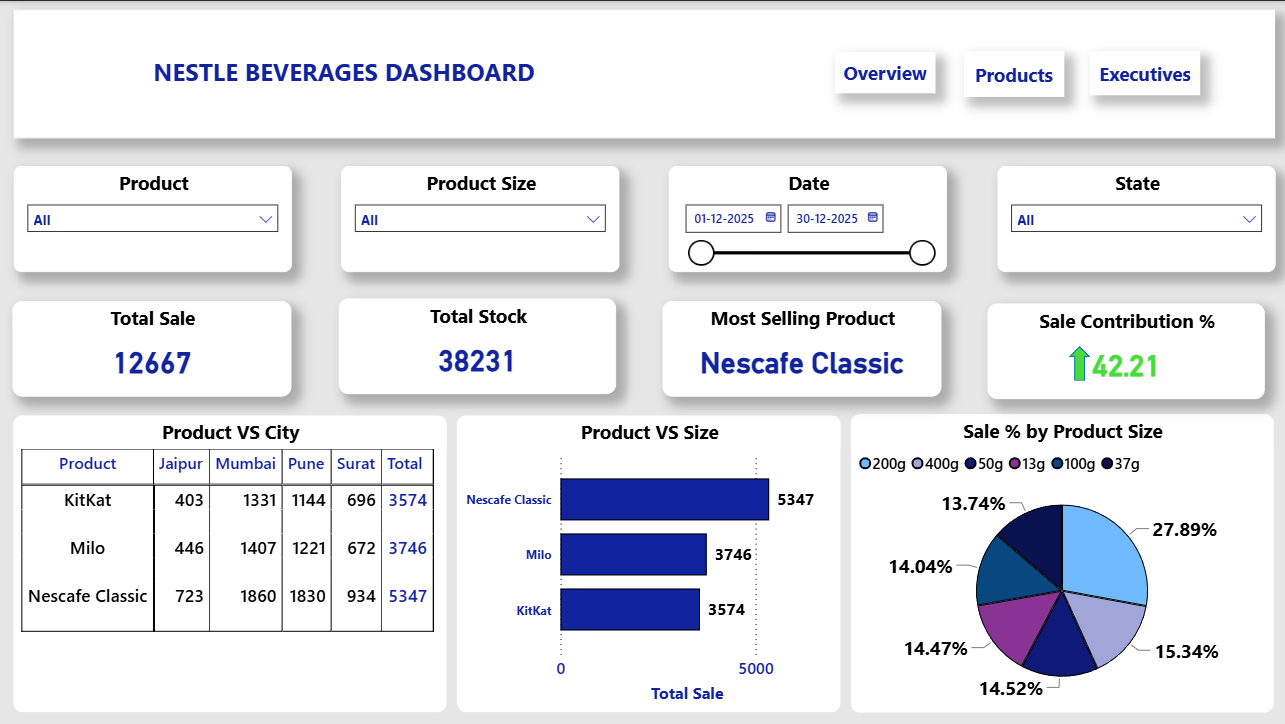

The dashboard page shown, as its layout file describes it:
{"tool":"powerbi","page":{"name":"Product Analysis","canvas":[1280,720],"ordinal":1},"visuals":[{"type":"shape","box":[13.7,8.2,1255.6,127.6],"z":0,"group":"g1"},{"type":"slicer","title":"Product","fields":{"Values":["West.Product"]},"box":[13.7,164.7,277.2,105.7],"z":0},{"type":"textbox","box":[147.2,47.7,417.2,46.7],"z":1000,"group":"g1"},{"type":"slicer","title":"Product Size ","fields":{"Values":["West.Product Size"]},"box":[339.9,164.7,277.2,105.7],"z":1000},{"type":"actionButton","box":[830.5,50.1,100.3,40.6],"z":2000,"group":"g1"},{"type":"slicer","title":"Date","fields":{"Values":["West.Date"]},"box":[666,164.7,277.2,105.7],"z":2000},{"type":"actionButton","box":[959.5,49,100.2,45.3],"z":3000,"group":"g1"},{"type":"slicer","title":"State","fields":{"Values":["West.State"]},"box":[992.1,164.7,277.2,105.7],"z":3000},{"type":"actionButton","box":[1084.4,49,109.8,43.9],"z":4000,"group":"g1"},{"type":"card","title":"Total Sale","fields":{"Values":["Measures (2).Total Sale"]},"box":[13,298,277.8,95.5],"z":4000},{"type":"card","title":"Total Stock","fields":{"Values":["Measures (2).Total Stock"]},"box":[336.6,296.6,276.3,95.5],"z":5000},{"type":"pivotTable","title":"Product VS City ","fields":{"Rows":["West.Product"],"Columns":["West.City"],"Values":["Measures (2).Total Sale"]},"box":[13,412.3,432.6,296.6],"z":6000},{"type":"barChart","title":"Product VS Size","fields":{"Category":["West.Product"],"Y":["Measures (2).Total Sale"]},"box":[454.3,412.3,383.4,296.6],"z":7000},{"type":"pieChart","fields":{"Y":["Measures (2).Sale %"],"Category":["West.Product Size"]},"box":[846.3,410.9,422.4,298],"z":8000},{"type":"group","id":"g1","title":"Group 1","box":[13.7,8.2,1255.6,127.6],"z":9000},{"type":"card","title":"Most Selling Product","fields":{"Values":["Min(West.Product)"]},"box":[658.7,298,277.8,95.5],"z":10000},{"type":"card","title":"Sale Contribution %","fields":{"Values":["Measures (2).Sale %"]},"box":[982.3,300.9,276.3,95.5],"z":11000},{"type":"shape","box":[1063.3,342.9,21.7,34.7],"z":12000}]}

Visuals, with their boxes in screenshot pixels (x1, y1, x2, y2), scaled from the page's 1280x720 canvas onto the 1285x724 screenshot:
shape: <region>14, 8, 1274, 137</region>
"Product" slicer: <region>14, 166, 292, 272</region>
textbox: <region>148, 48, 567, 95</region>
"Product Size " slicer: <region>341, 166, 620, 272</region>
actionButton: <region>834, 50, 934, 91</region>
"Date" slicer: <region>669, 166, 947, 272</region>
actionButton: <region>963, 49, 1064, 95</region>
"State" slicer: <region>996, 166, 1274, 272</region>
actionButton: <region>1089, 49, 1199, 93</region>
"Total Sale" card: <region>13, 300, 292, 396</region>
"Total Stock" card: <region>338, 298, 615, 394</region>
"Product VS City " pivotTable: <region>13, 415, 447, 713</region>
"Product VS Size" barChart: <region>456, 415, 841, 713</region>
pieChart - Measures (2).Sale % x West.Product Size: <region>850, 413, 1274, 713</region>
"Group 1" group: <region>14, 8, 1274, 137</region>
"Most Selling Product" card: <region>661, 300, 940, 396</region>
"Sale Contribution %" card: <region>986, 303, 1264, 399</region>
shape: <region>1067, 345, 1089, 380</region>
